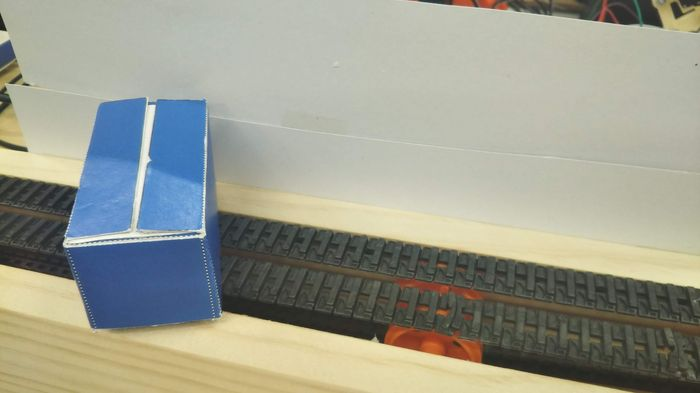box3: (60, 94, 226, 332)
